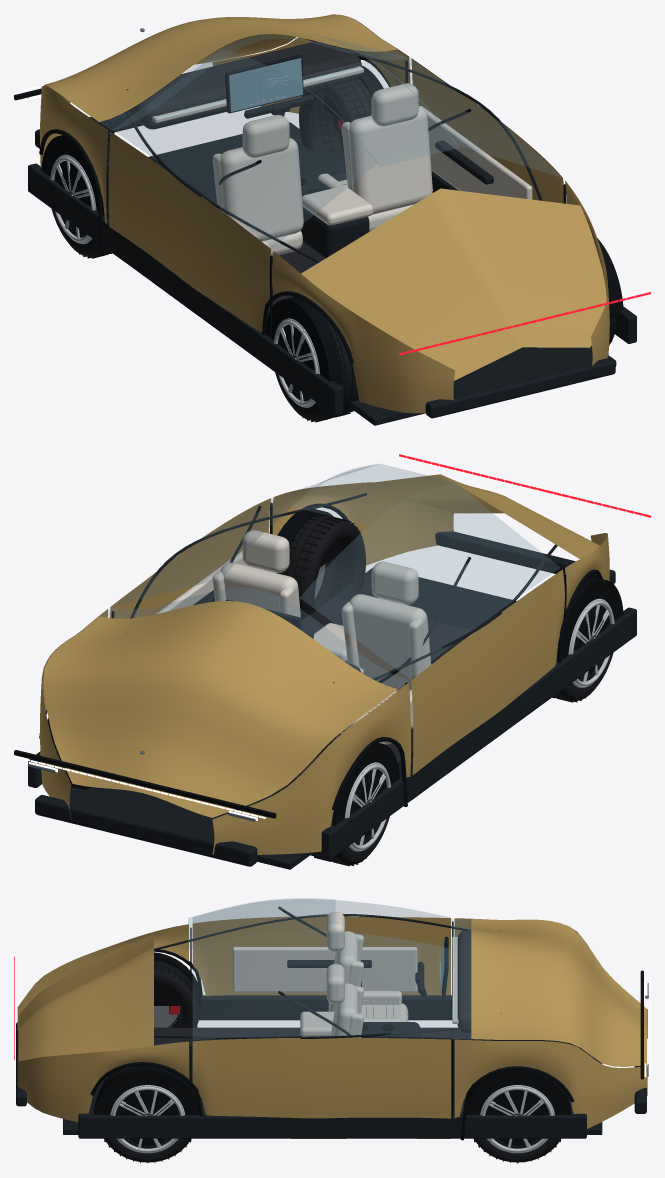
The model's file is cybercab.glb.
The picture shows the model from 3 angles, top to bottom: view 1: azimuth 30°, elevation 25°; view 2: azimuth 150°, elevation 25°; view 3: azimuth 270°, elevation 25°; orthographic projection. The views are drawn at different scales.
Parts seen in each view (by area): view 1: tailgate__exterior_paint, door_fl__glass, body__satin_trim, seat__interior_leather (×2), door_fl__exterior_paint, body__exterior_paint, hood__exterior_paint, body__glass, body__panel_seal, door_fr__glass, cabin__dashboard, door_fr__exterior_paint (+12 smaller); view 2: hood__exterior_paint, door_fl__glass, body__satin_trim, body__exterior_paint, door_fl__exterior_paint, seat__interior_leather (×2), body__glass, body__panel_seal, tailgate__exterior_paint, door_fr__glass, door_fr__exterior_paint, wheel_rr__tire_rubber (+9 smaller); view 3: door_fr__glass, door_fr__exterior_paint, body__satin_trim, hood__exterior_paint, body__exterior_paint, tailgate__exterior_paint, door_fl__exterior_paint, body__panel_seal, body__glass, door_fl__interior_leather, seat__interior_leather (×2), door_fl__glass (+12 smaller).
Part boxes in pixels (x1=…): tailgate__exterior_paint: x1=301, y1=188, x2=606, y2=380; door_fl__glass: x1=113, y1=49, x2=377, y2=246; body__satin_trim: x1=28, y1=39, x2=636, y2=425; seat__interior_leather (×2): x1=212, y1=83, x2=432, y2=256; door_fl__exterior_paint: x1=108, y1=131, x2=270, y2=331; body__exterior_paint: x1=40, y1=16, x2=609, y2=413; hood__exterior_paint: x1=44, y1=14, x2=397, y2=122; body__glass: x1=101, y1=35, x2=459, y2=166; body__panel_seal: x1=14, y1=56, x2=623, y2=384; door_fr__glass: x1=312, y1=33, x2=559, y2=176; cabin__dashboard: x1=125, y1=39, x2=361, y2=129; door_fr__exterior_paint: x1=411, y1=58, x2=563, y2=203; hood__exterior_paint: x1=43, y1=601, x2=397, y2=817; door_fl__glass: x1=300, y1=484, x2=560, y2=678; body__satin_trim: x1=28, y1=493, x2=636, y2=869; body__exterior_paint: x1=40, y1=482, x2=609, y2=854; door_fl__exterior_paint: x1=411, y1=569, x2=564, y2=800; seat__interior_leather (×2): x1=212, y1=530, x2=431, y2=744; body__glass: x1=101, y1=464, x2=458, y2=688; body__panel_seal: x1=14, y1=502, x2=623, y2=825; tailgate__exterior_paint: x1=302, y1=474, x2=599, y2=558; door_fr__glass: x1=114, y1=466, x2=370, y2=605; door_fr__exterior_paint: x1=110, y1=498, x2=270, y2=618; wheel_rr__tire_rubber: x1=282, y1=514, x2=365, y2=619; door_fr__glass: x1=193, y1=930, x2=450, y2=1039; door_fr__exterior_paint: x1=192, y1=1037, x2=450, y2=1138; body__satin_trim: x1=16, y1=914, x2=646, y2=1138; hood__exterior_paint: x1=471, y1=918, x2=646, y2=1066; body__exterior_paint: x1=17, y1=918, x2=647, y2=1128; tailgate__exterior_paint: x1=18, y1=933, x2=153, y2=1061; door_fl__exterior_paint: x1=192, y1=916, x2=450, y2=996; body__panel_seal: x1=90, y1=921, x2=643, y2=1140; body__glass: x1=188, y1=898, x2=470, y2=1038; door_fl__interior_leather: x1=232, y1=947, x2=417, y2=992; seat__interior_leather (×2): x1=326, y1=912, x2=408, y2=1037; door_fl__glass: x1=193, y1=899, x2=449, y2=922.
Size of the model in its own units: 1.91 by 1.38 by 4.13.
